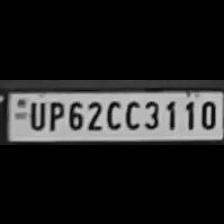0: (196, 97, 218, 128)
1: (162, 96, 180, 130), (179, 97, 195, 129)
2: (84, 97, 104, 130)
3: (141, 96, 161, 130)
6: (64, 97, 84, 129)
C: (102, 96, 122, 130), (122, 96, 140, 130)
P: (45, 98, 63, 130)
U: (24, 98, 46, 130)
